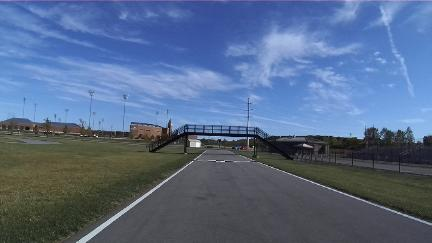Grass: (0, 141, 201, 242), (257, 153, 431, 221), (0, 138, 23, 142)
Lane: (89, 151, 431, 242)
